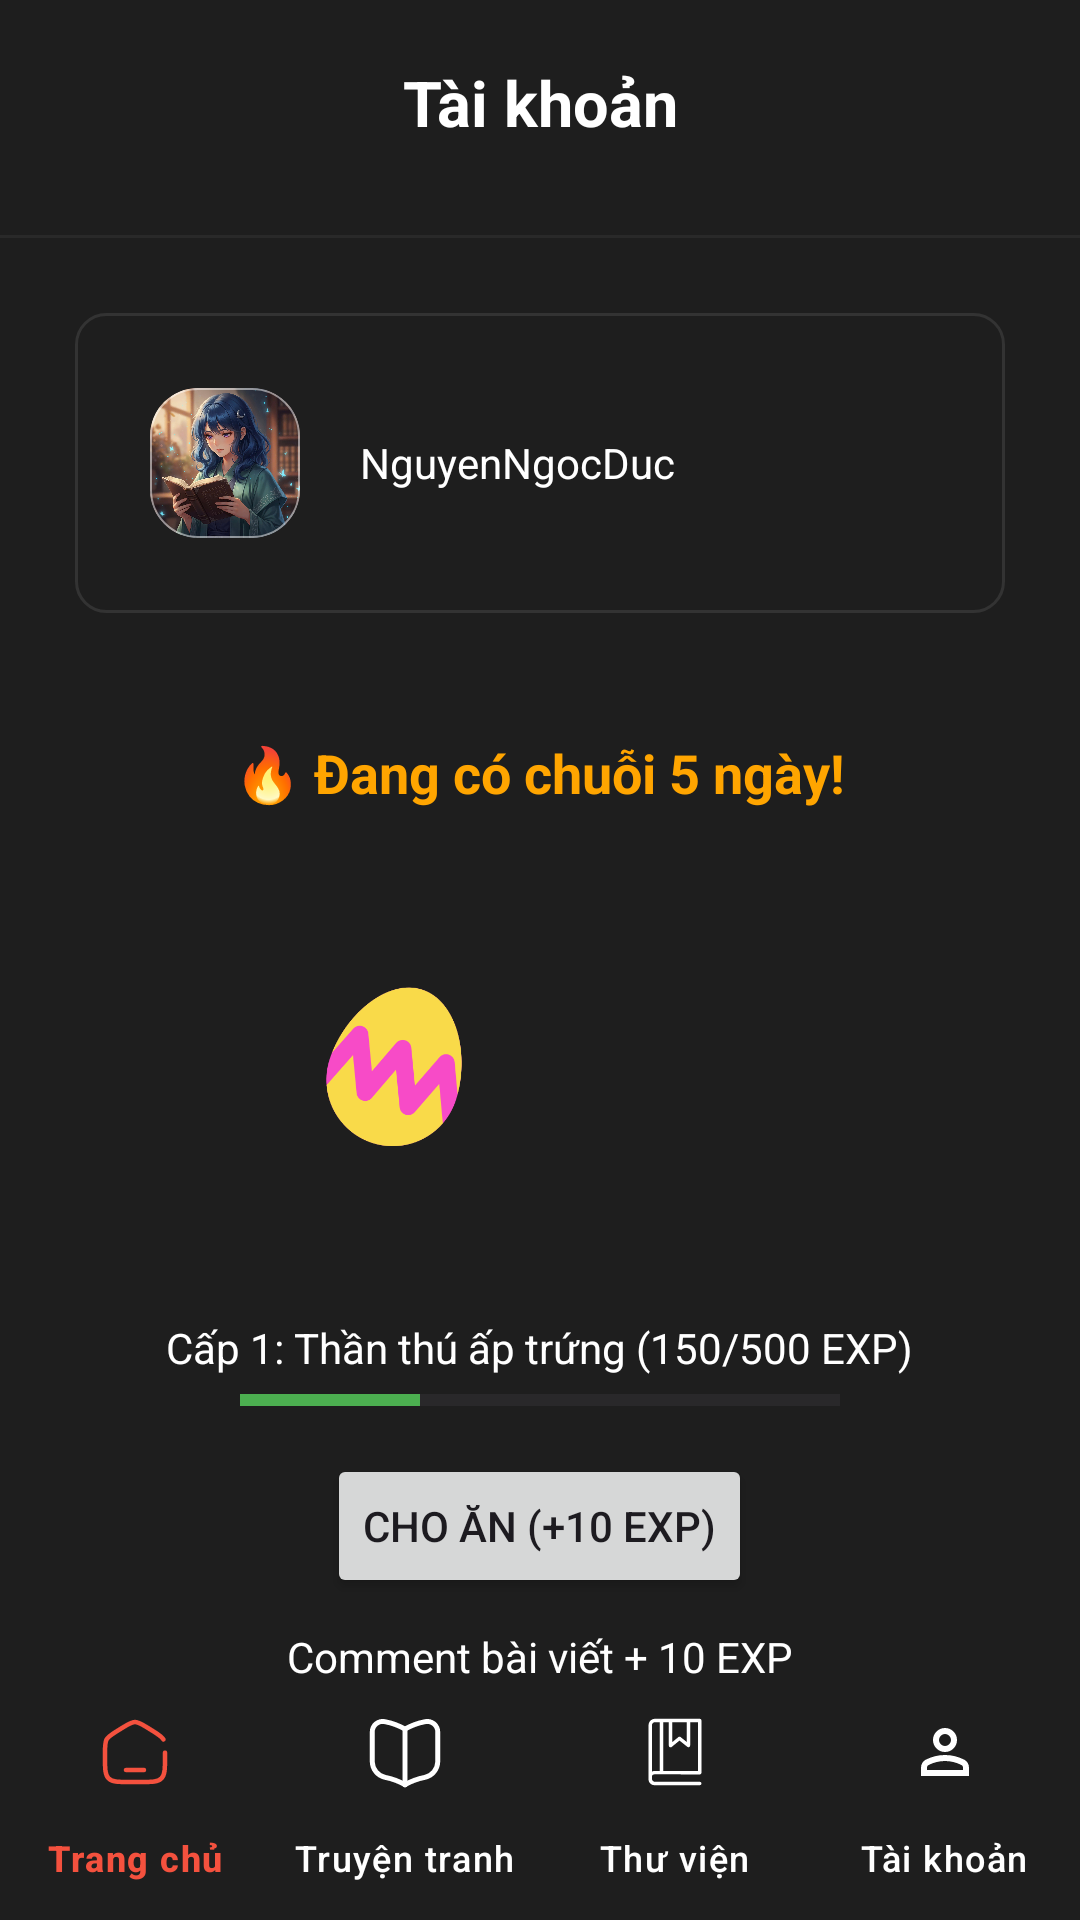

Where to tap for icons on this 1080x1920 app screen, as point (x, y):
egg: point (394, 1066)
